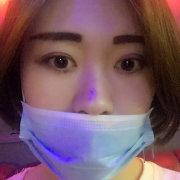WRONG: (9, 23, 165, 179)
